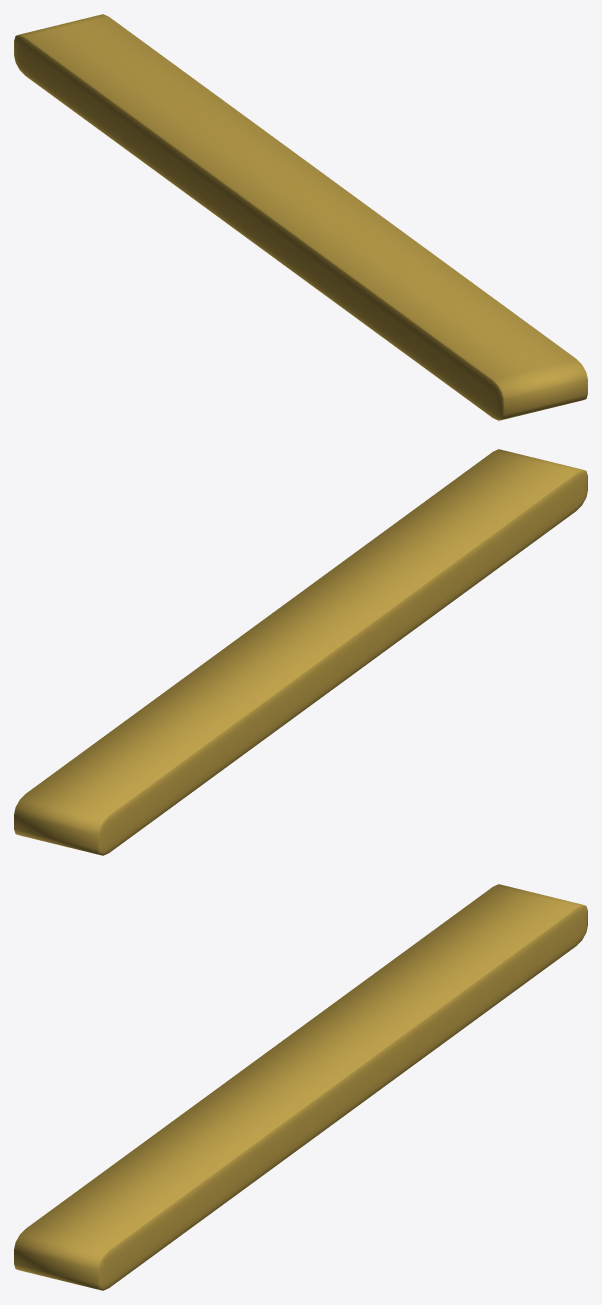
The model's file is CurtainBar.fbx.
3 renders of one model, top to bottom at view 1: azimuth 30°, elevation 25°; view 2: azimuth 150°, elevation 25°; view 3: azimuth 330°, elevation 25°, orthographic.
Visible parts, largest first — view 1: CutainBar; view 2: CutainBar; view 3: CutainBar.
Boxes of the visible parts, x1,y1,x2,y2 form: CutainBar: [14, 14, 587, 420]; CutainBar: [14, 449, 587, 855]; CutainBar: [14, 884, 587, 1290].
Bounding box in the file's own units: 85.18 × 36.58 × 833.
